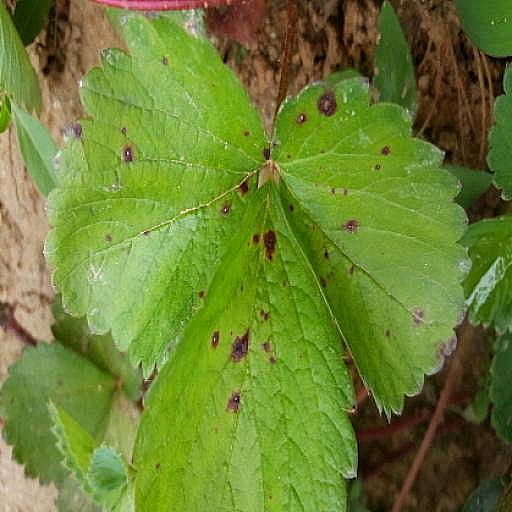Leaf Spot: (41, 128, 269, 501), (129, 0, 358, 333), (269, 87, 473, 444), (0, 22, 121, 172)
